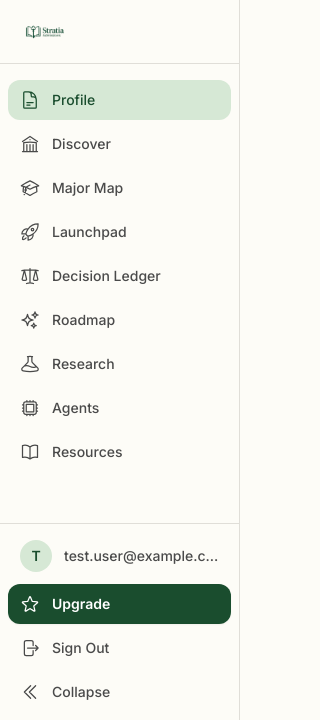
Navigation — collapsible left sidebar (#231) › toggles between Collapse and Expand
Click the button with aria-label "collapse sidebar": (120, 692) [8,672,231,712]
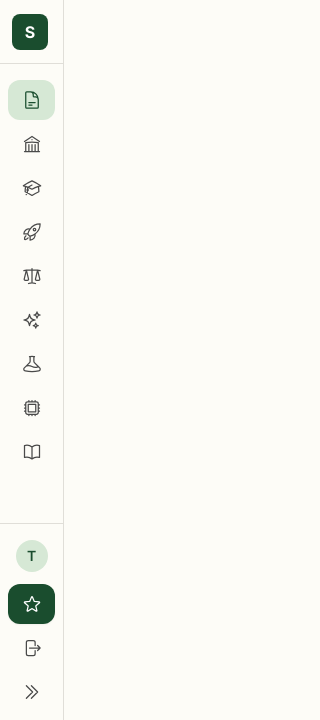
Result: the button named "expand sidebar" is collapsed at [8,672,55,712]
